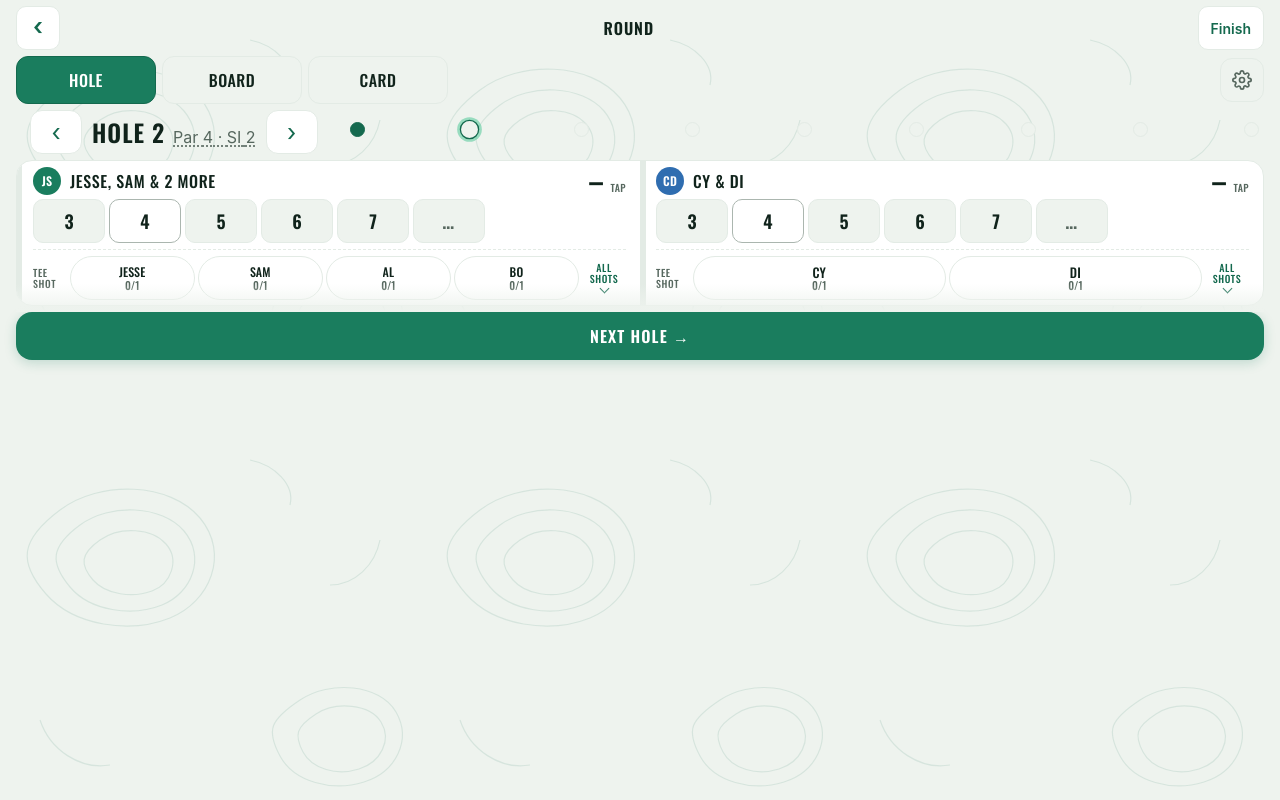
Test: the warning banner › lists teams with "and", since a default team name has a comma in it
Click the button named "Hole 1, complete": [358, 129] box [346, 117, 370, 141]
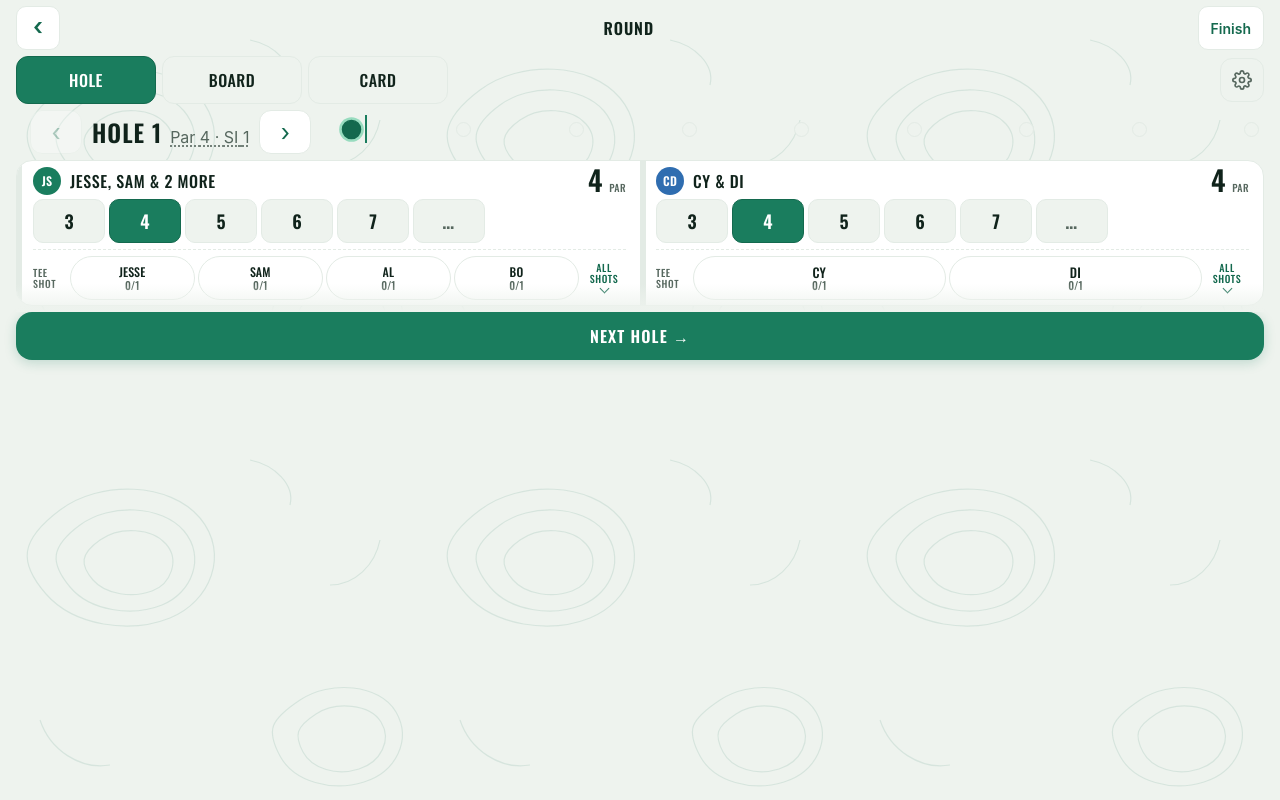
Click the button "Next Hole →": [640, 336] box [16, 312, 1264, 360]
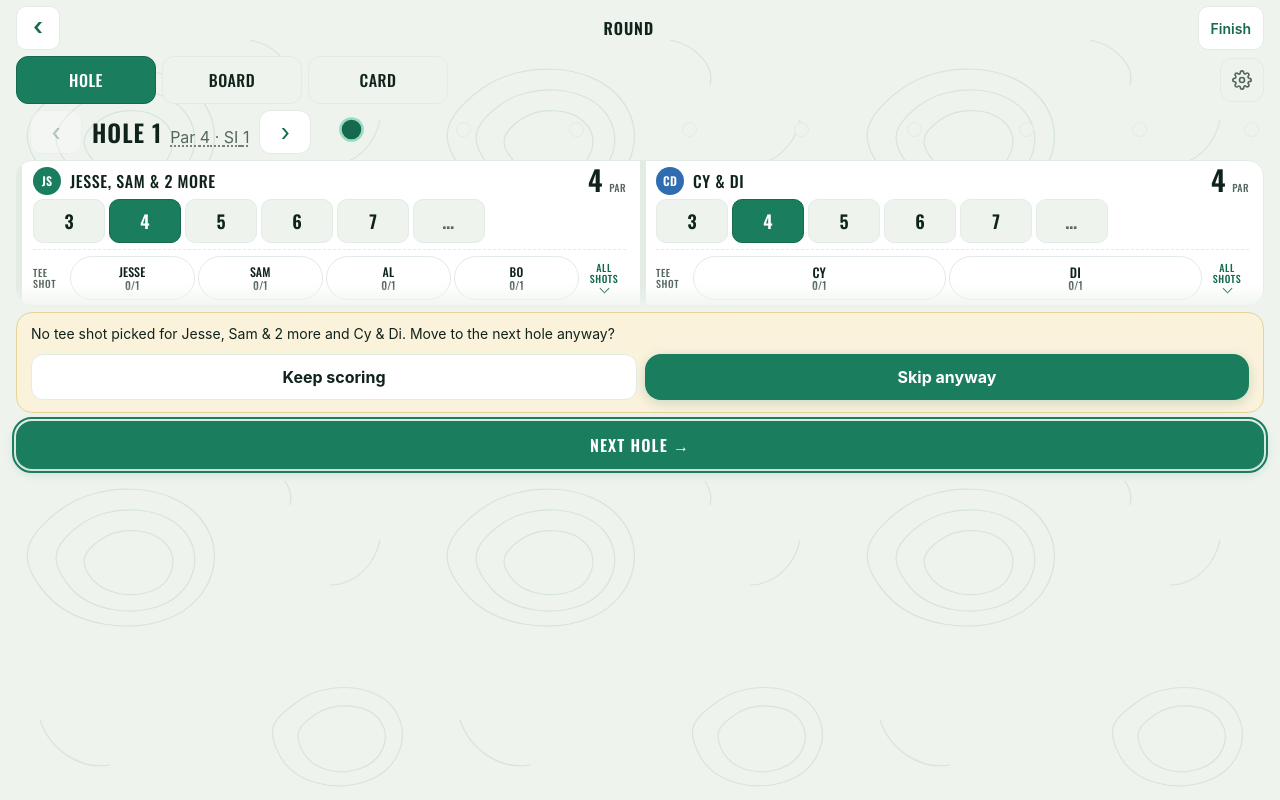
Expected: the message shows "No tee shot picked for Jesse, Sam & 2 more and Cy & Di.", [31, 325, 615, 342]
